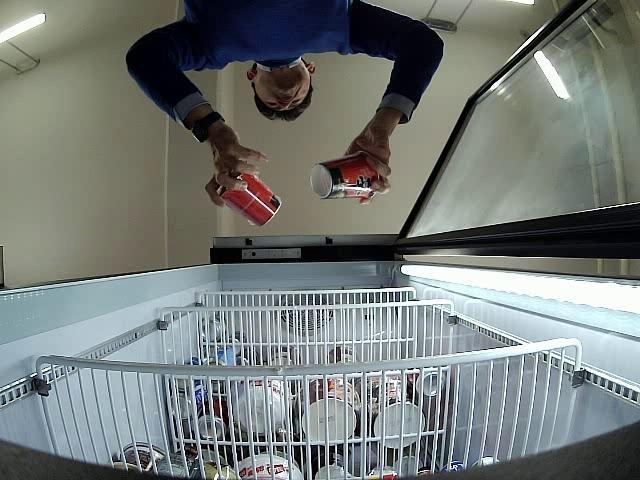02_shinRamen_S: (218, 174, 283, 228), (309, 150, 376, 199)
